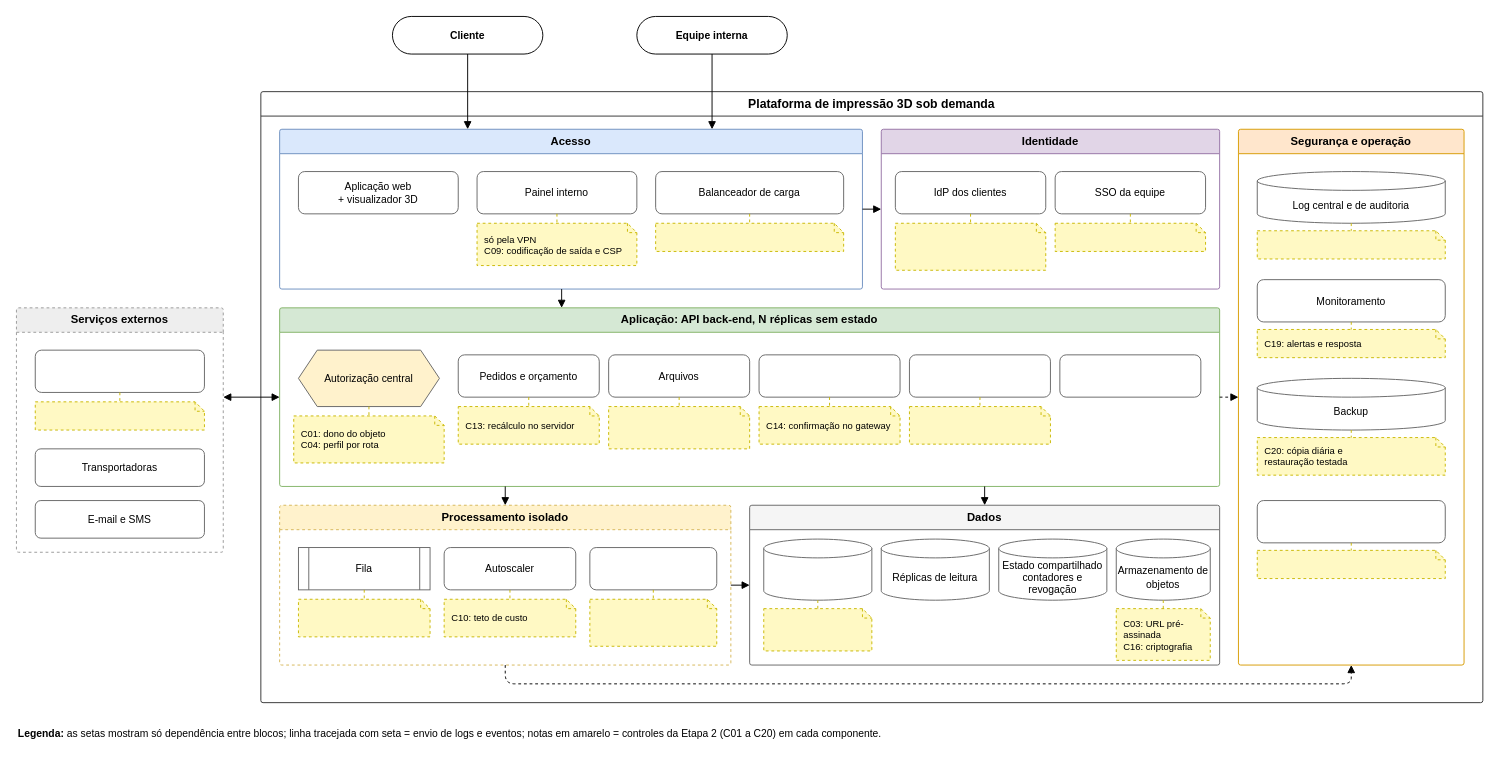
Image size: 1499x776. Some labels were removed from this diagram. The shapes that lost their labels are listed below. From the top down, each one's centre as x and y in pixels, then its label:
At (x=749, y=236): "TLS e limite de requisições".
At (x=970, y=246): "C07: limite de tentativas C08: sessão e cookies".
At (x=1130, y=236): "C05: MFA obrigatório".
At (x=1350, y=244): "C18: só inclusões".
At (x=119, y=370): "Gateway de pagamento".
At (x=829, y=375): "Pagamentos".
At (x=979, y=375): "Logística".
At (x=1130, y=375): "Revisão técnica e administração".
At (x=119, y=415): "C17: tokenização".
At (x=679, y=427): "C03: URL pré-assinada C10: limites de upload".
At (x=979, y=425): "C15: retorno com HMAC".
At (x=1350, y=521): "Imagem endurecida".
At (x=653, y=568): "Workers descartáveis (N)".
At (x=817, y=569): "Banco principal".
At (x=1350, y=564): "C12: análise de dependências".
At (x=364, y=617): "C10: cota por conta".
At (x=653, y=622): "C11: sem rede, tempo e memória máximos".
At (x=817, y=629): "C02: UUID C16: criptografia".
